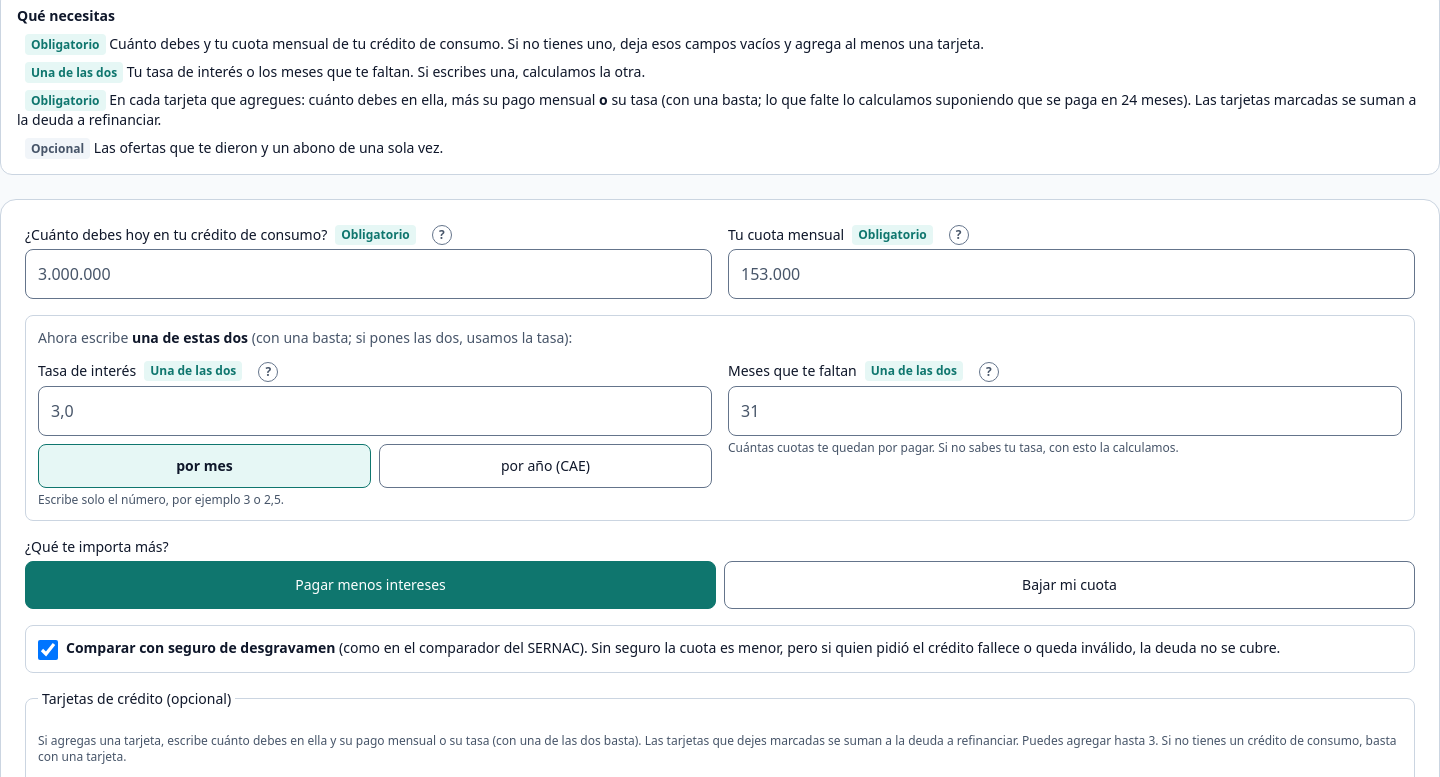
Test case: Resultado › si la cuota no cubre los intereses da un error claro
Step 1. Type "5000000" into the field labelled "¿Cuánto debes hoy en tu crédito de consumo?" → [368, 274], box [25,249,712,299]
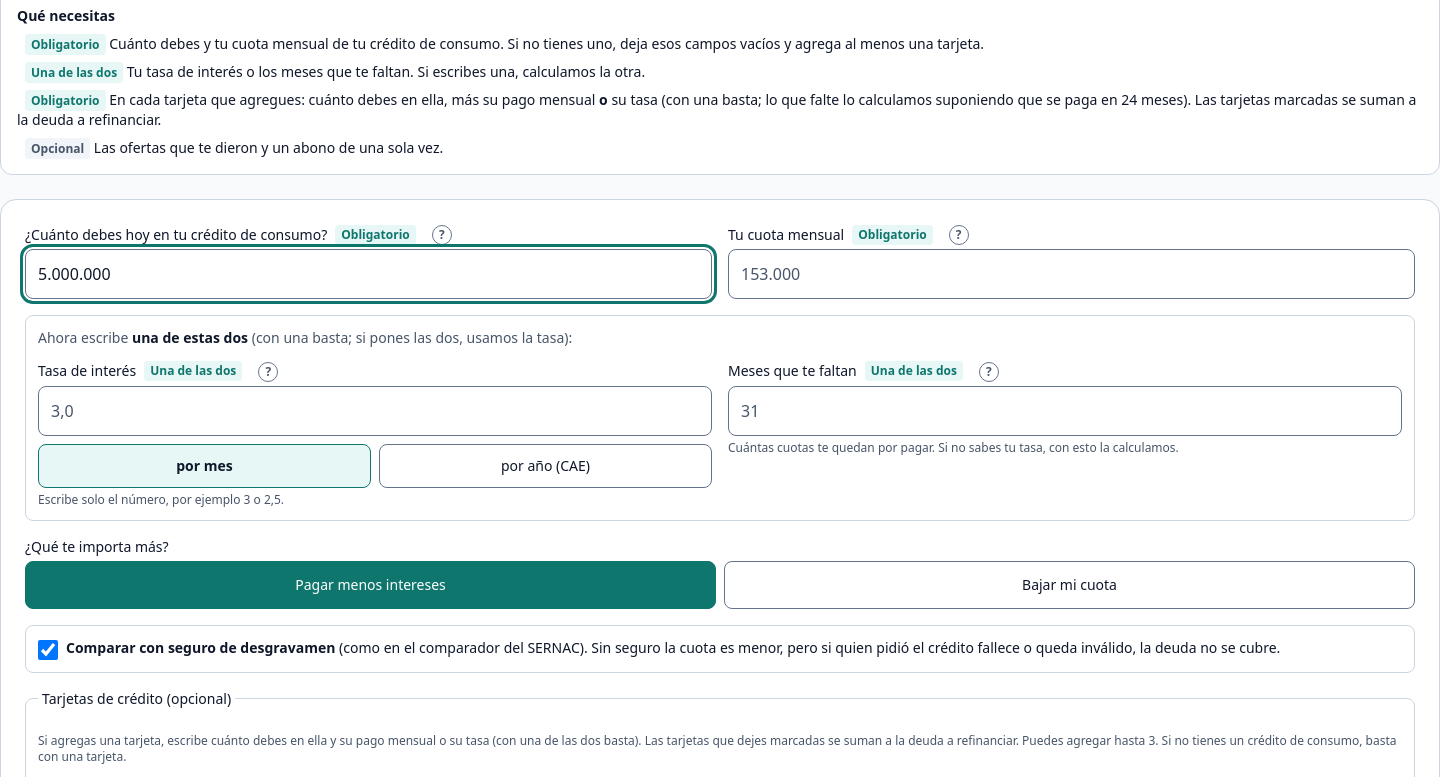
Step 2. Type "50000" into the field labelled "Tu cuota mensual" → [1072, 274], box [728,249,1415,299]
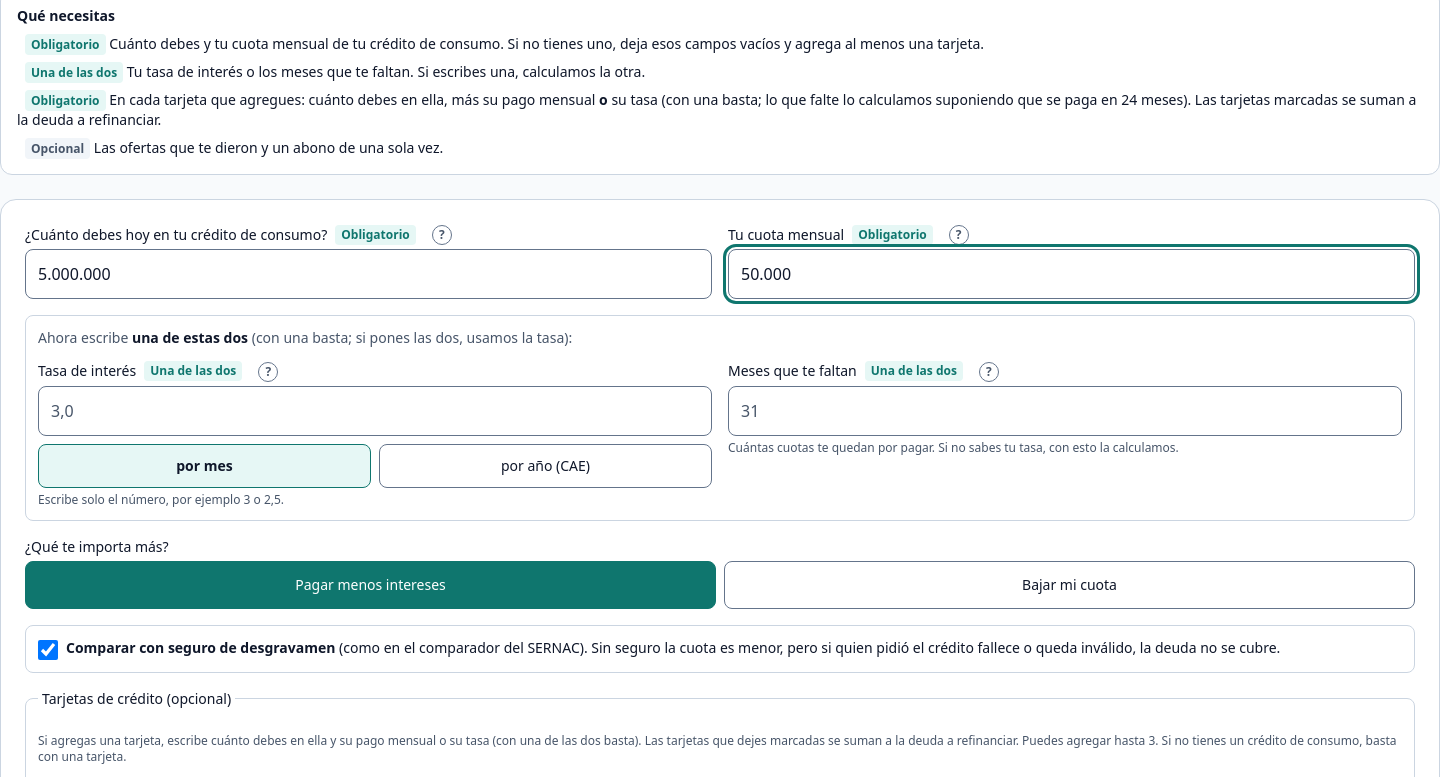
Step 3. Type "3" into the field labelled "Tasa de interés" → [375, 410], box [38,386,712,436]
(page scrolled)
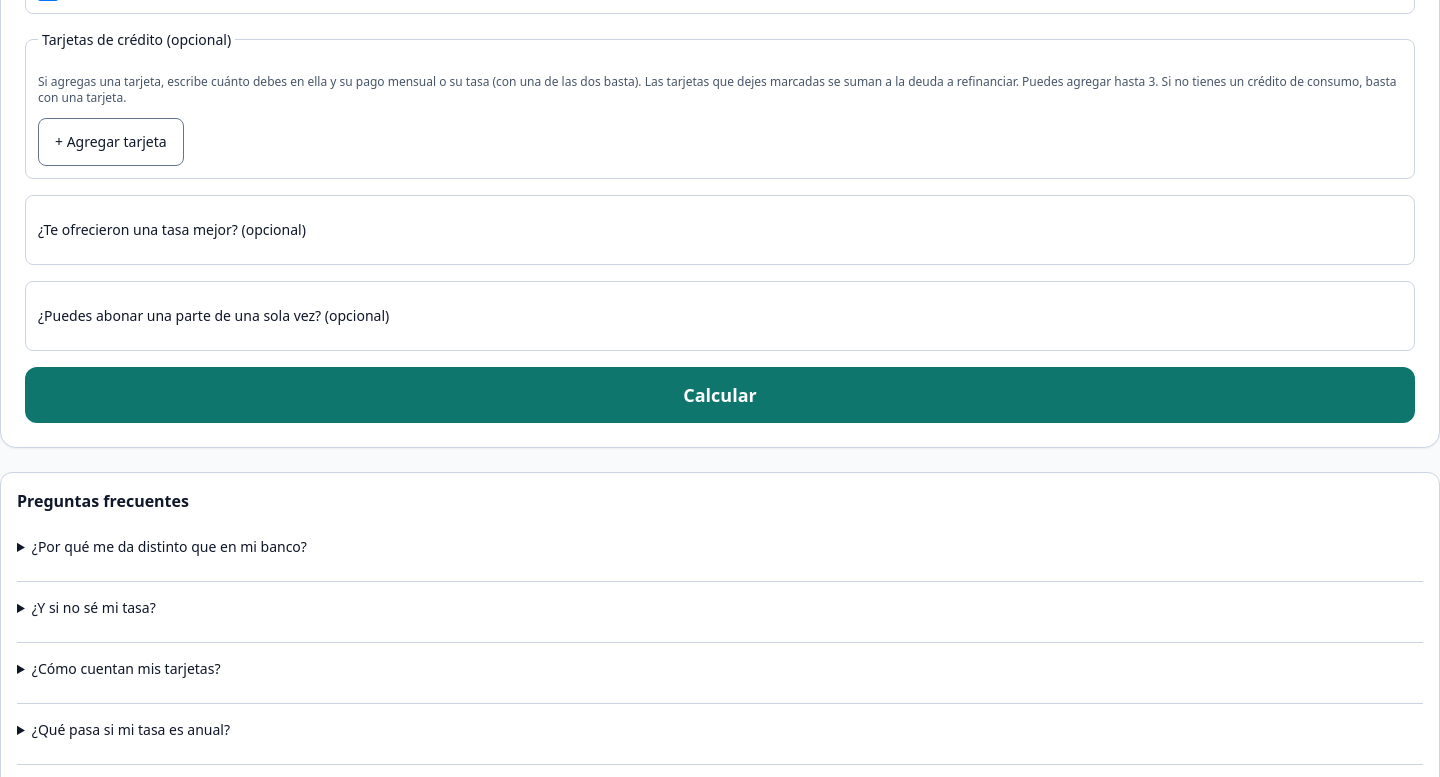
Step 4. Click the button "Calcular" → [720, 394], box [25,366,1415,422]
(page scrolled)
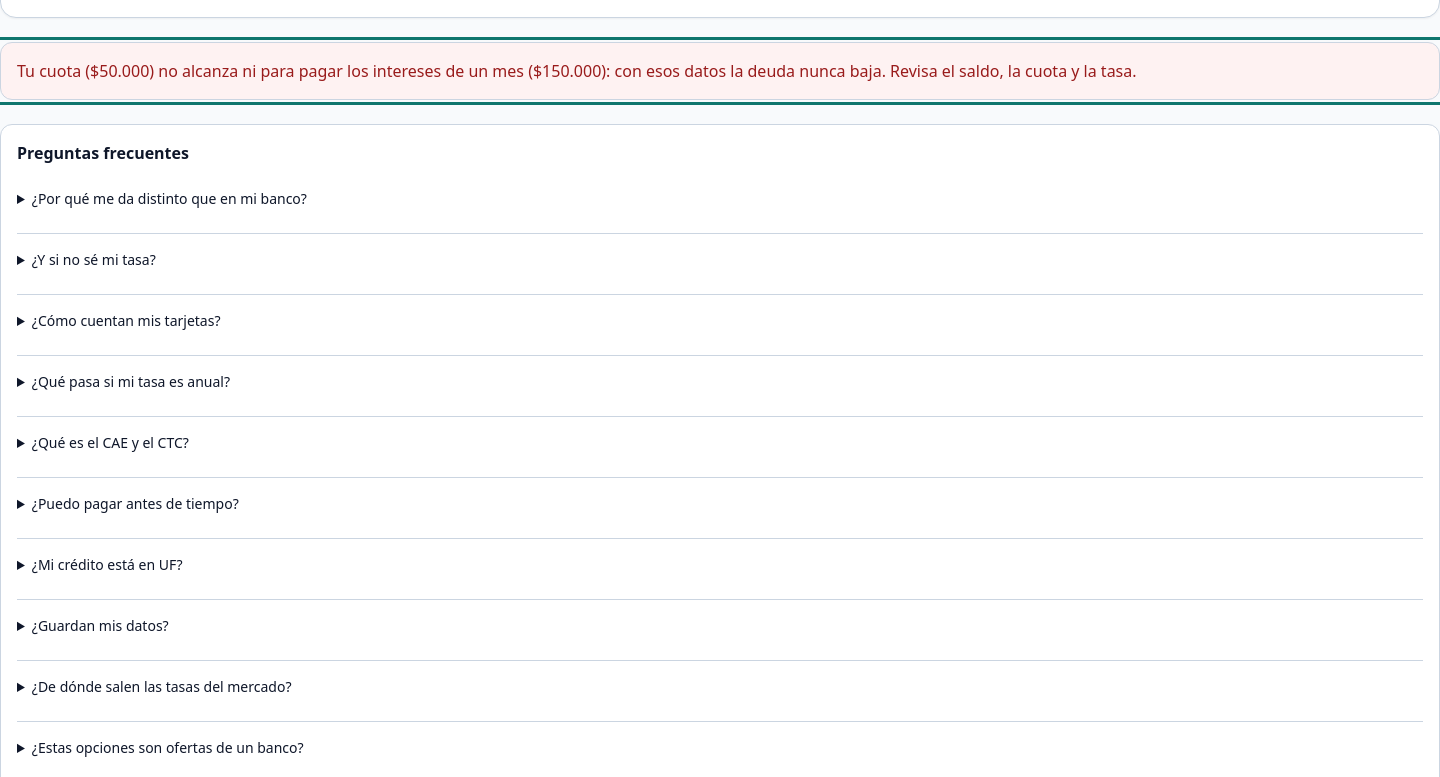
Check: the message shows "nunca baja", box [17,60,1136,82]
